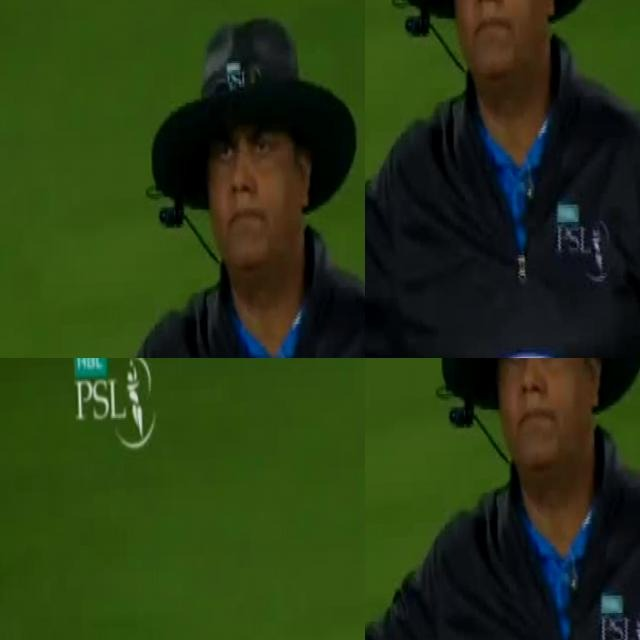No_Ball: (0, 403, 365, 640)
Wide: (0, 17, 111, 358)
